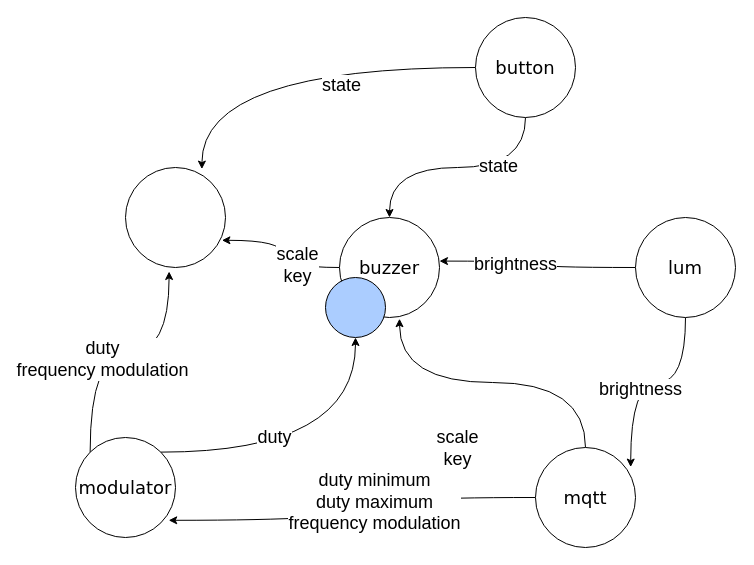
This 754x565 diagram has some shape labels left out. The centre of each missing label's shape, as x and y in pixels:
oled: point (175, 217)
sub_task: point (355, 307)
